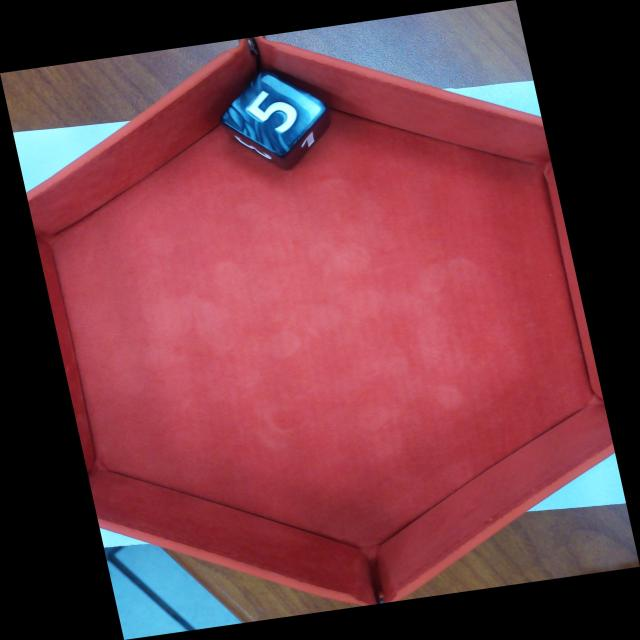dice: (219, 69, 329, 157)
